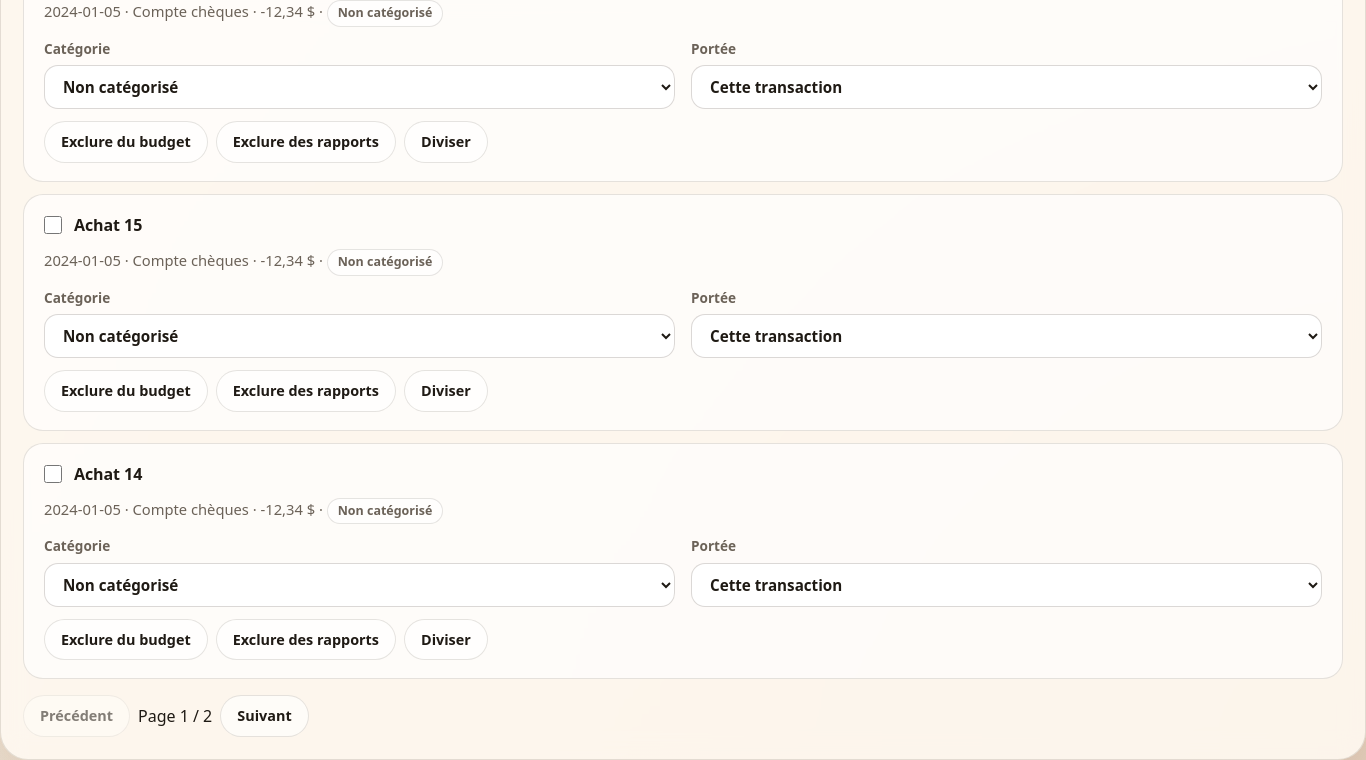
Test case: FinanceTransactionsPage › returns to the first page when a filter changes
The width and height of the screenshot is (1366, 760).
(page scrolled)
Expected: the text "Page 1 / 2" is shown, [138,704,212,728]
Click the button "Suivant" at (264, 716), box [220,695,309,737]
(page scrolled)
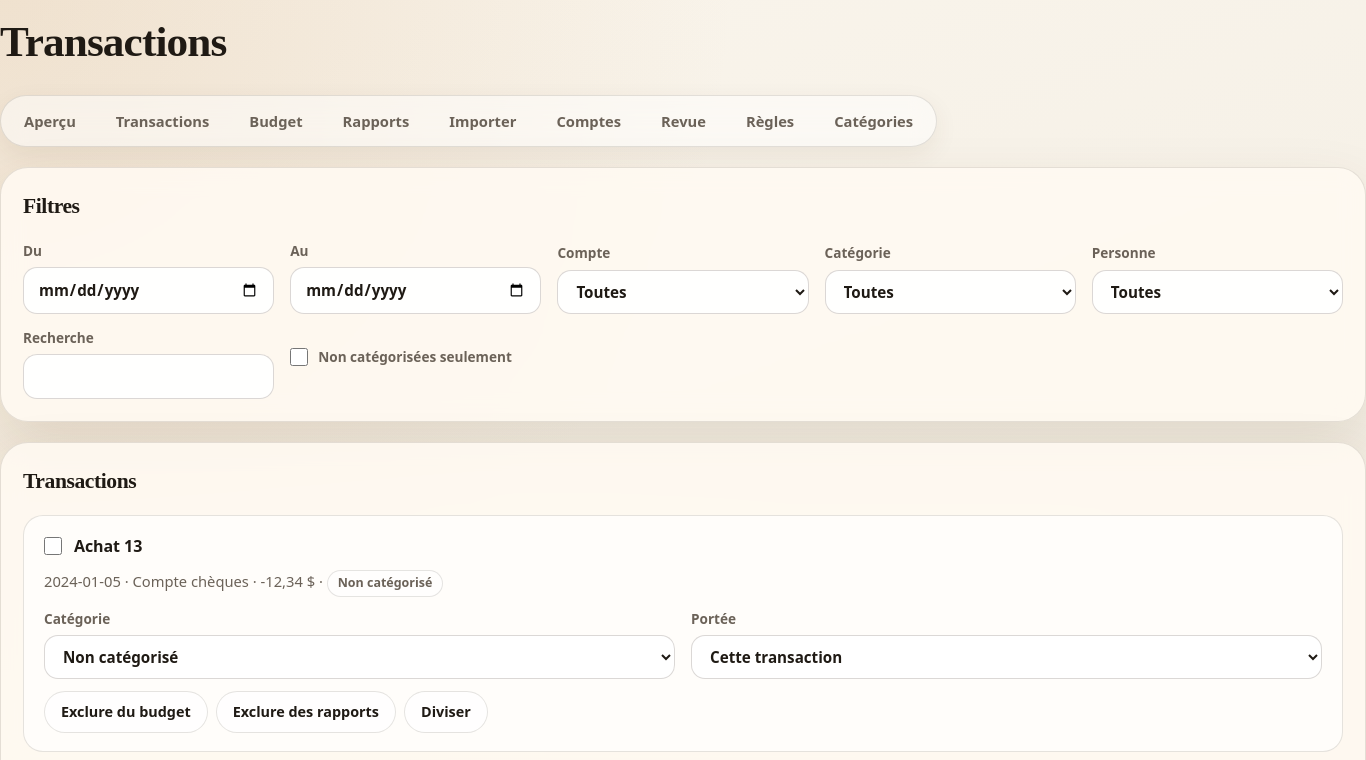
Type "Achat 7" into the field at (149, 376), box [23,354,274,399]
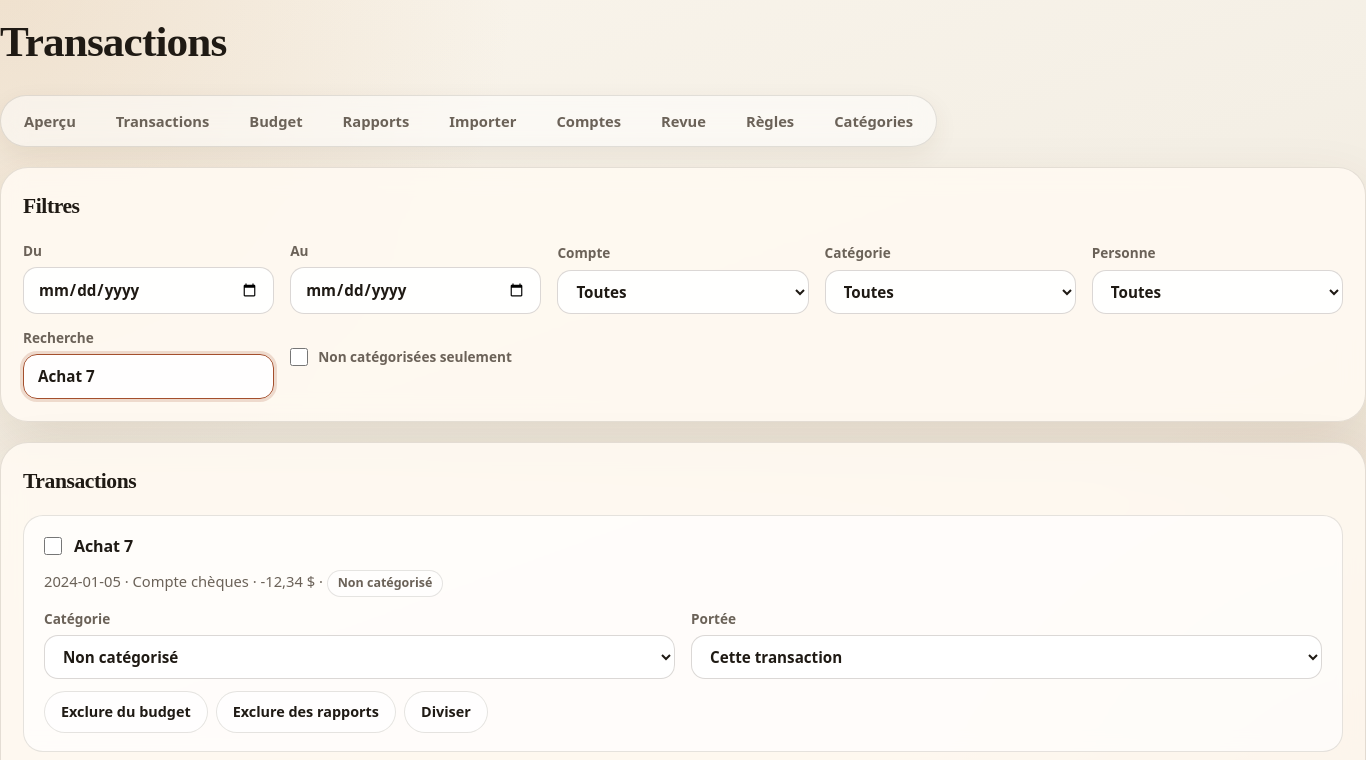
Expected: the heading "Achat 7" is shown, [74,534,133,558]
